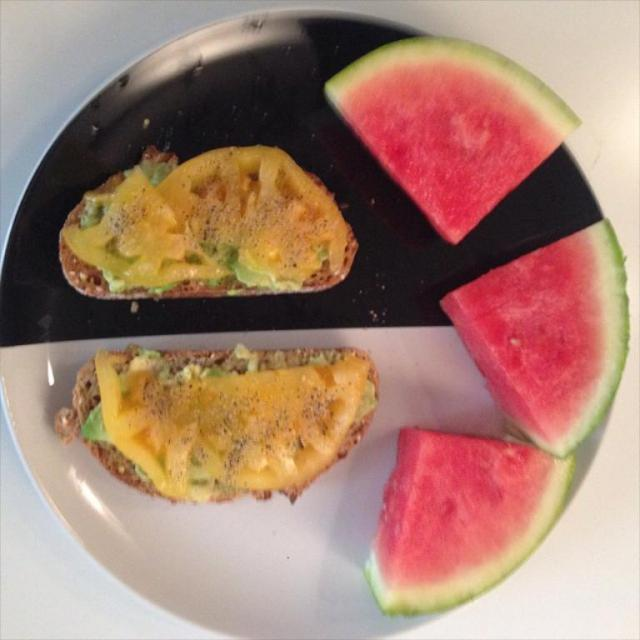Watermelon: (325, 35, 586, 241), (443, 220, 628, 456), (359, 429, 575, 617)
